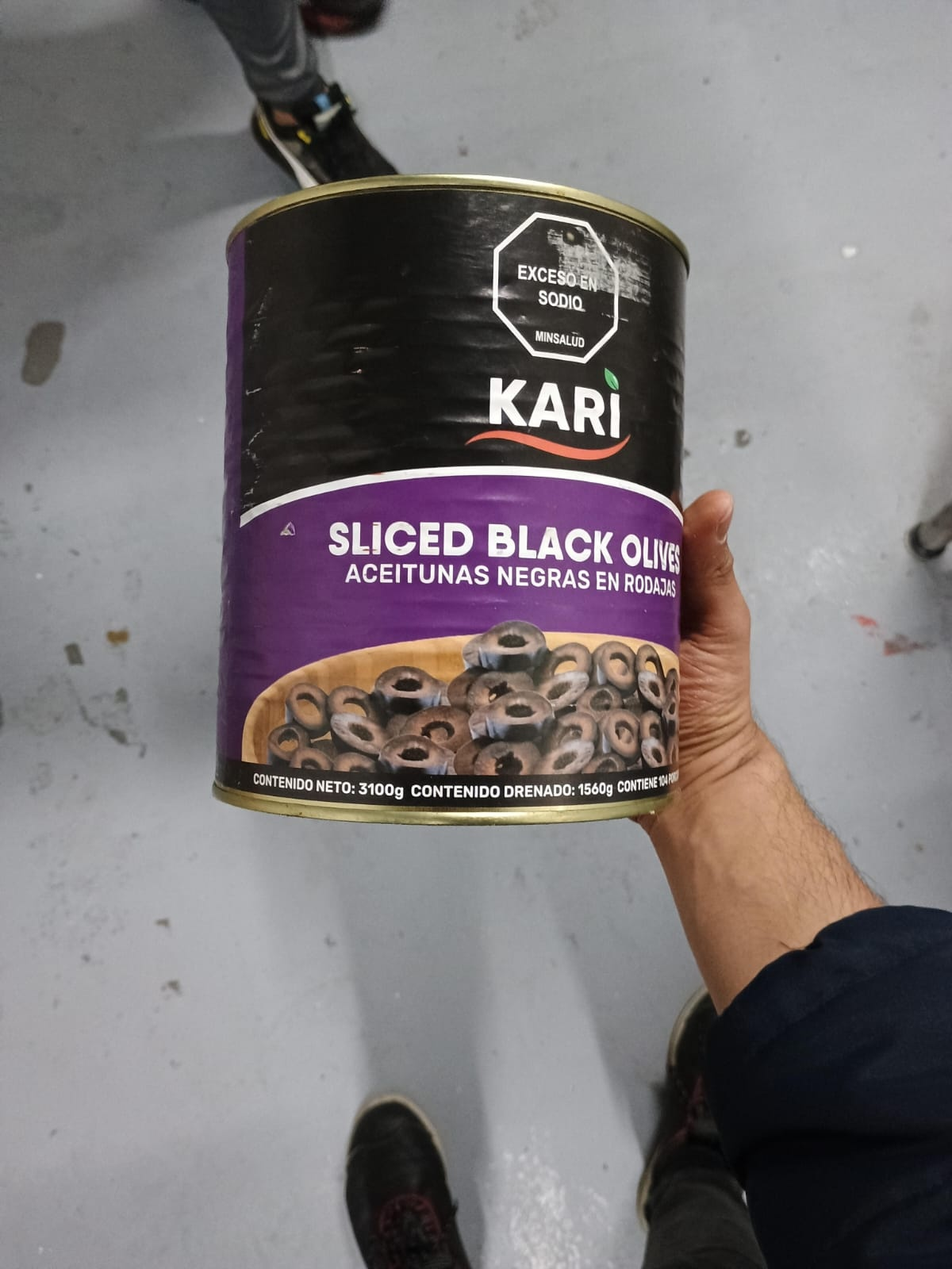Metal: (221, 173, 687, 832)
